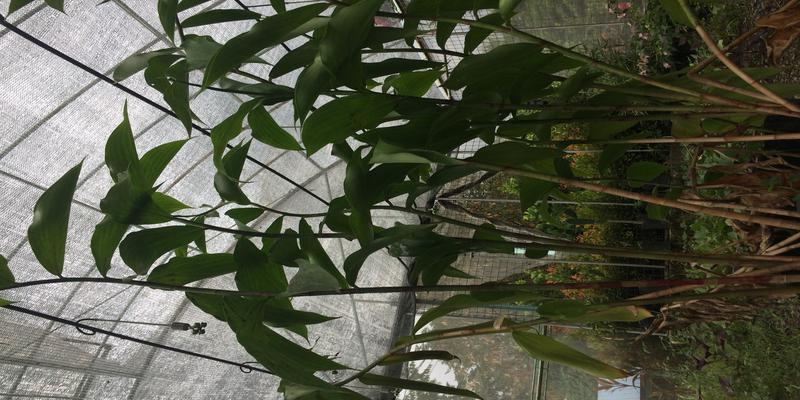Insulin: (176, 9, 779, 314)
